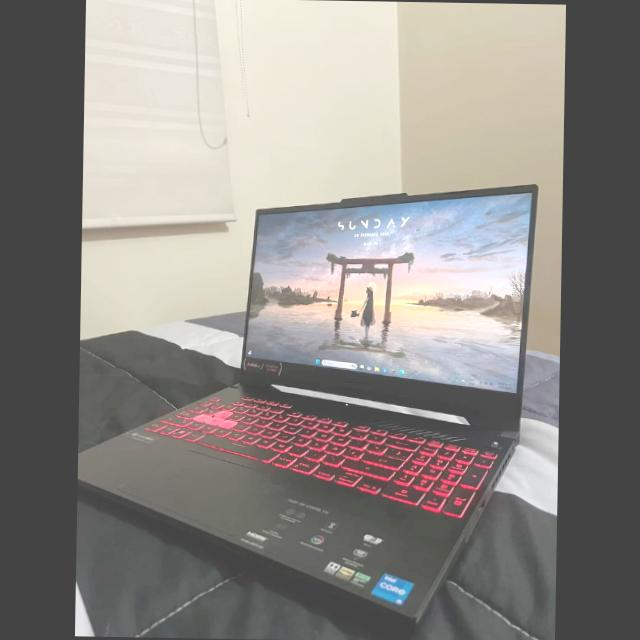laptop: (77, 184, 537, 624)
